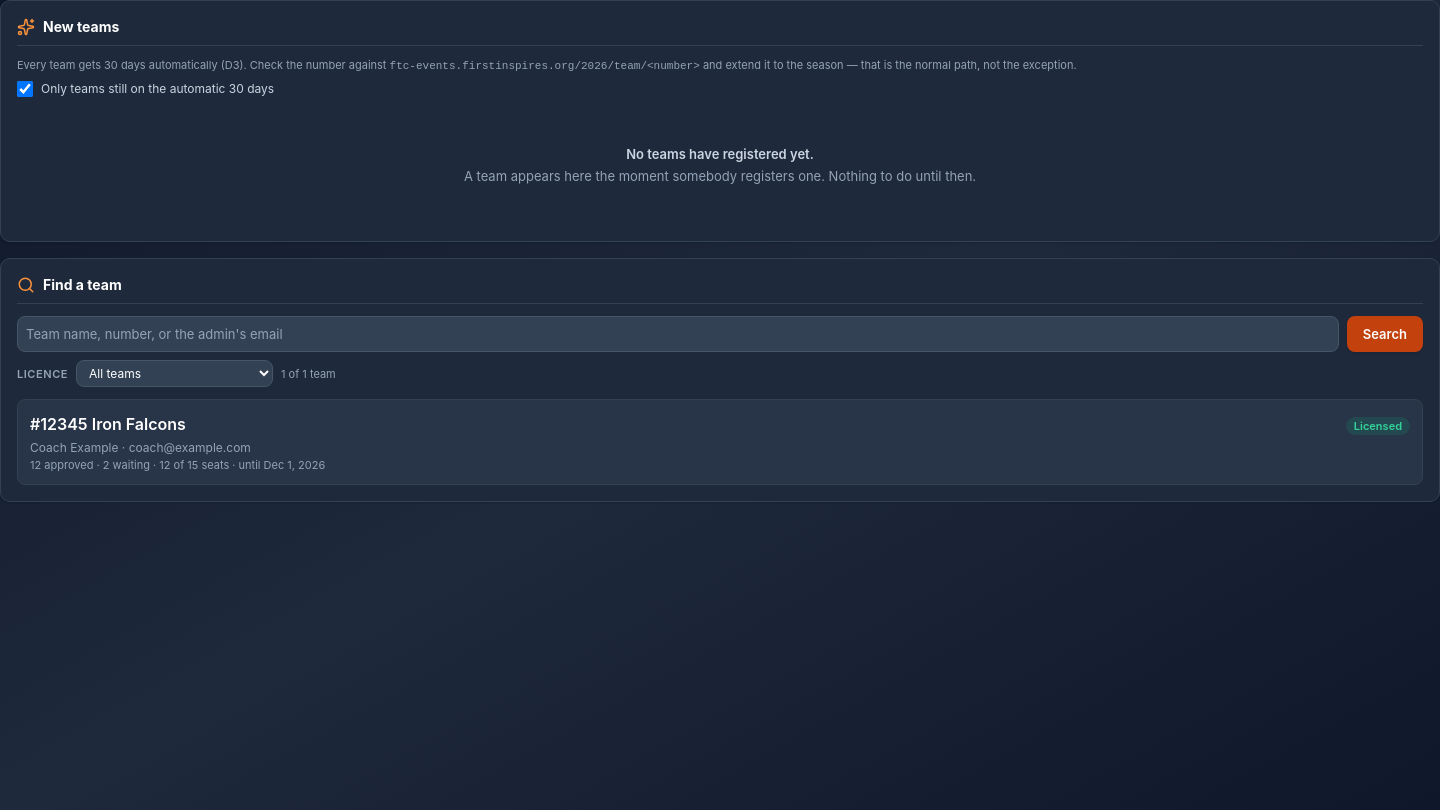
SEC-11 — erasing a person from the console › surfaces a transport failure rather than reporting success
Click the text "#12345 Iron Falcons" at (108, 424), box left=30, top=412, right=186, bottom=436
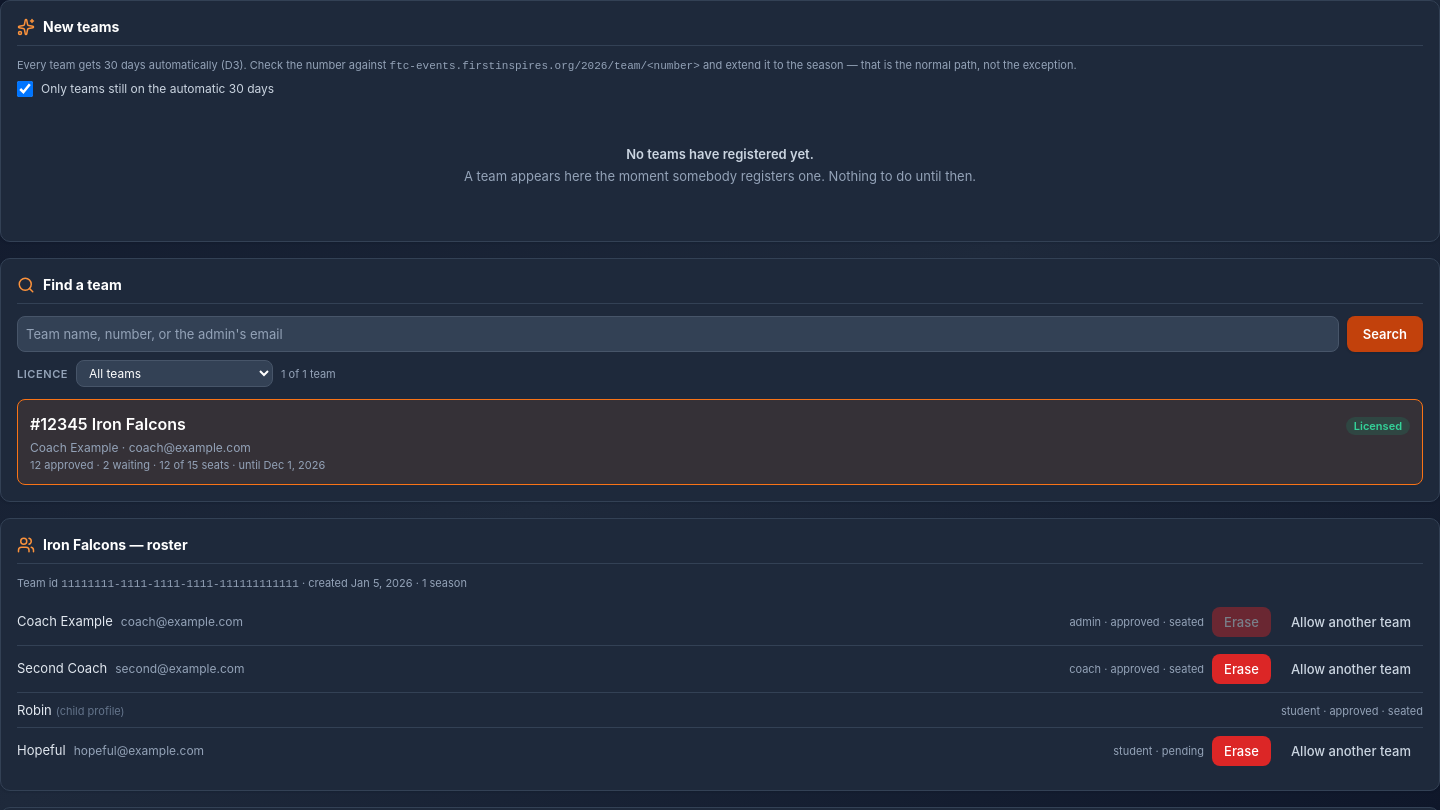
Result: the heading "Iron Falcons — roster" is shown at left=17, top=535, right=188, bottom=555
Click the button with test id "erase-user-m-coach" at (1242, 669), box left=1212, top=654, right=1271, bottom=684
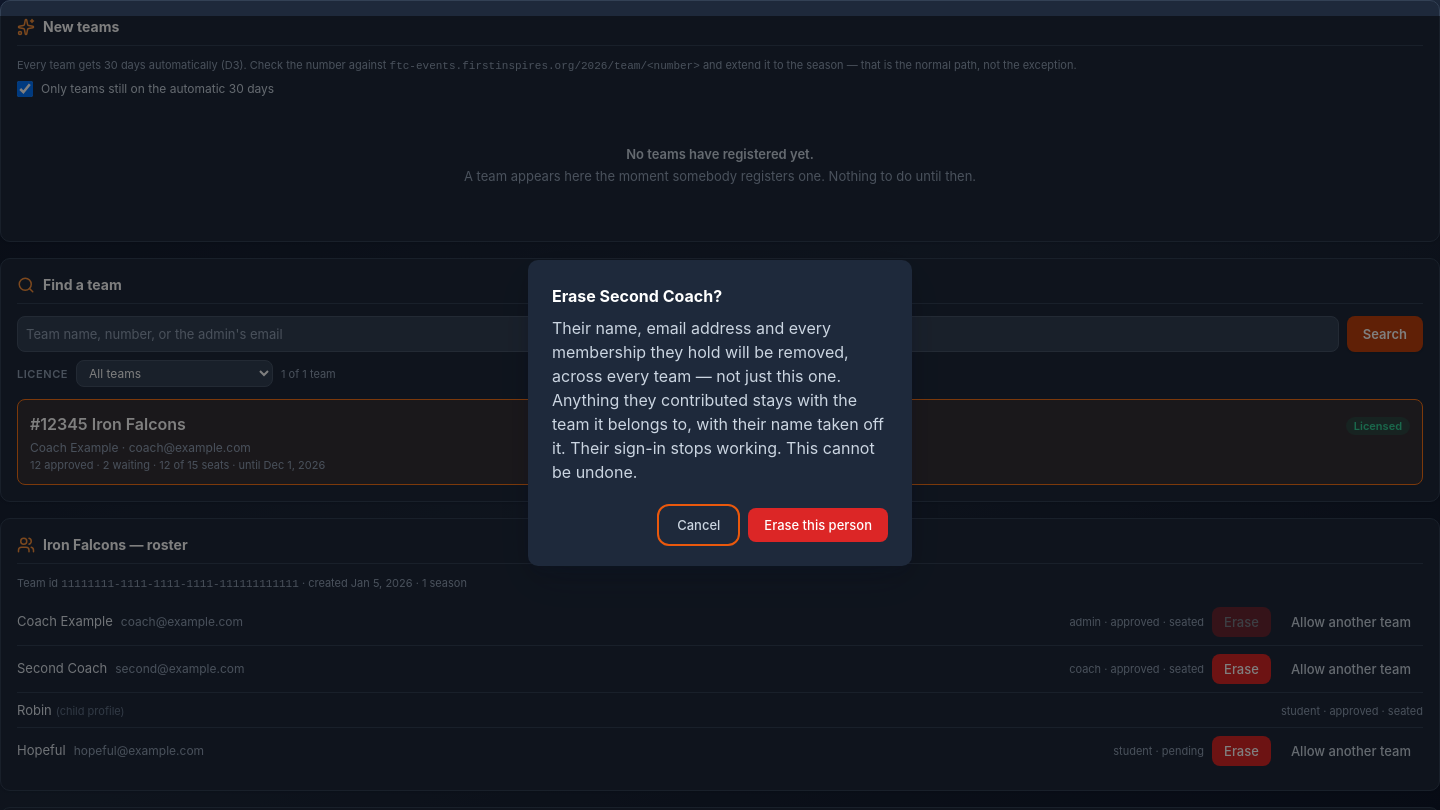
Click the button with test id "confirm-erase-user" at (818, 525), box left=748, top=508, right=888, bottom=542
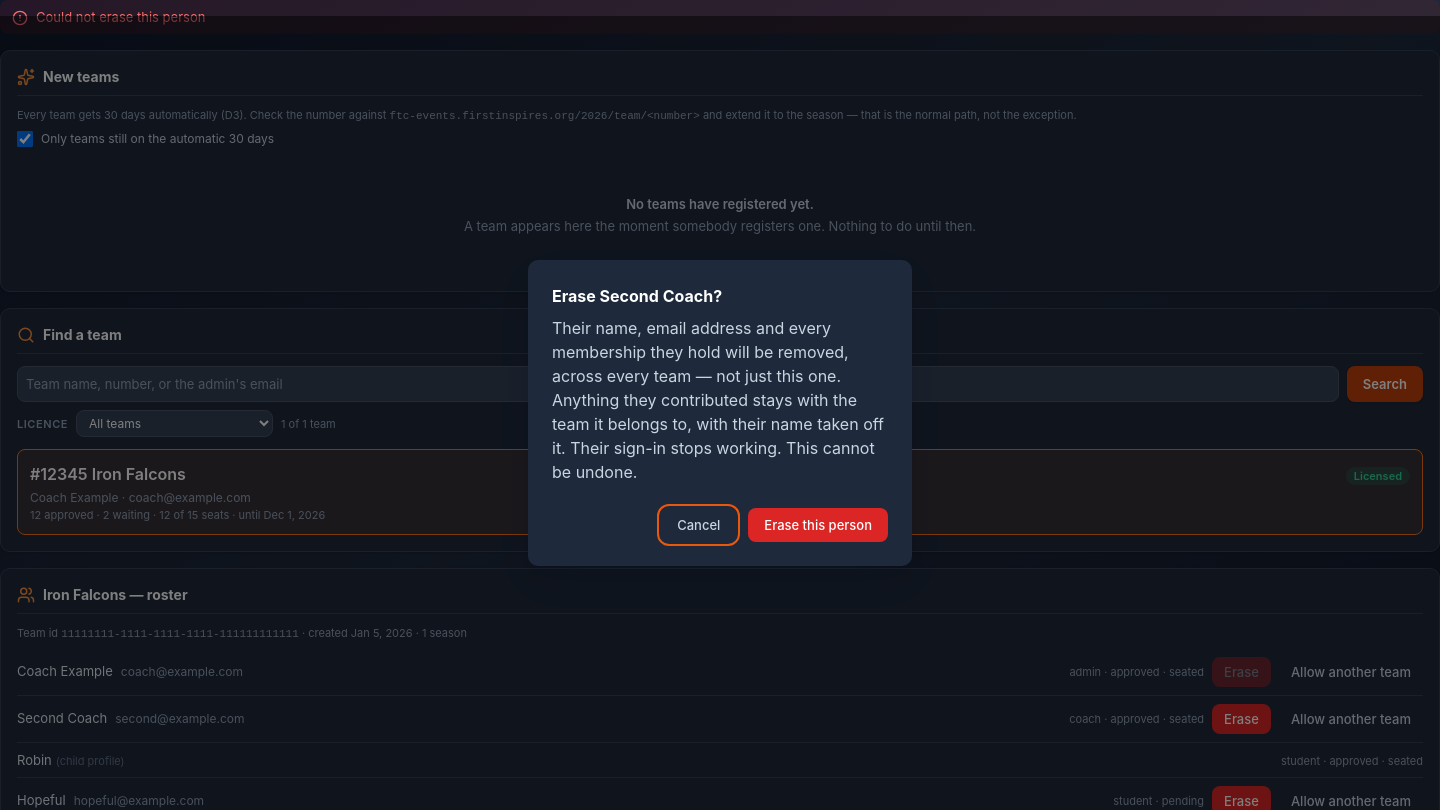
Result: the text "Could not erase this person" is shown at left=36, top=8, right=205, bottom=26
